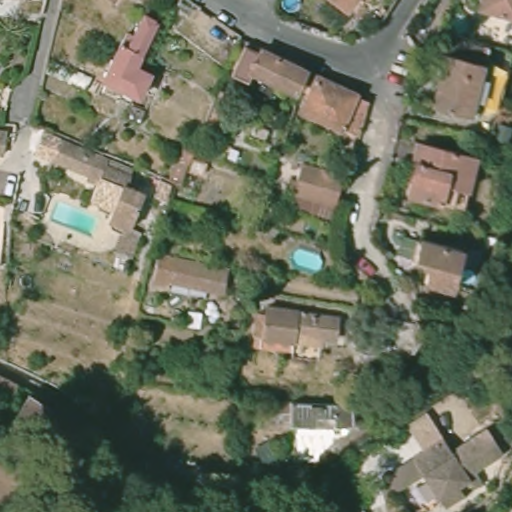pool: (44, 198, 105, 237), (286, 240, 328, 276), (278, 1, 302, 14)
